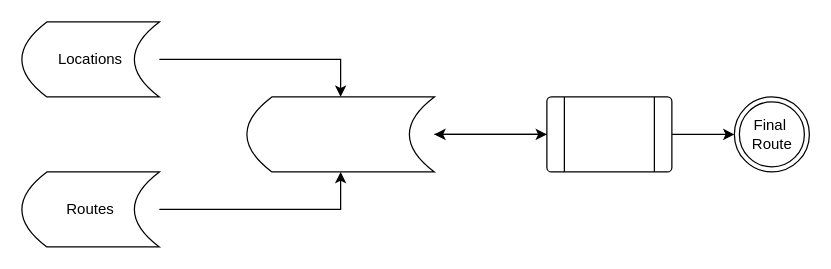
Image size: 831x269. Some labels were removed from this diagram. The centre of each missing label's shape, as x and y in pixels:
Adjacency list (Nodes and Edges): the point at 340,134
Depth First Search Algorithm: the point at 609,134
